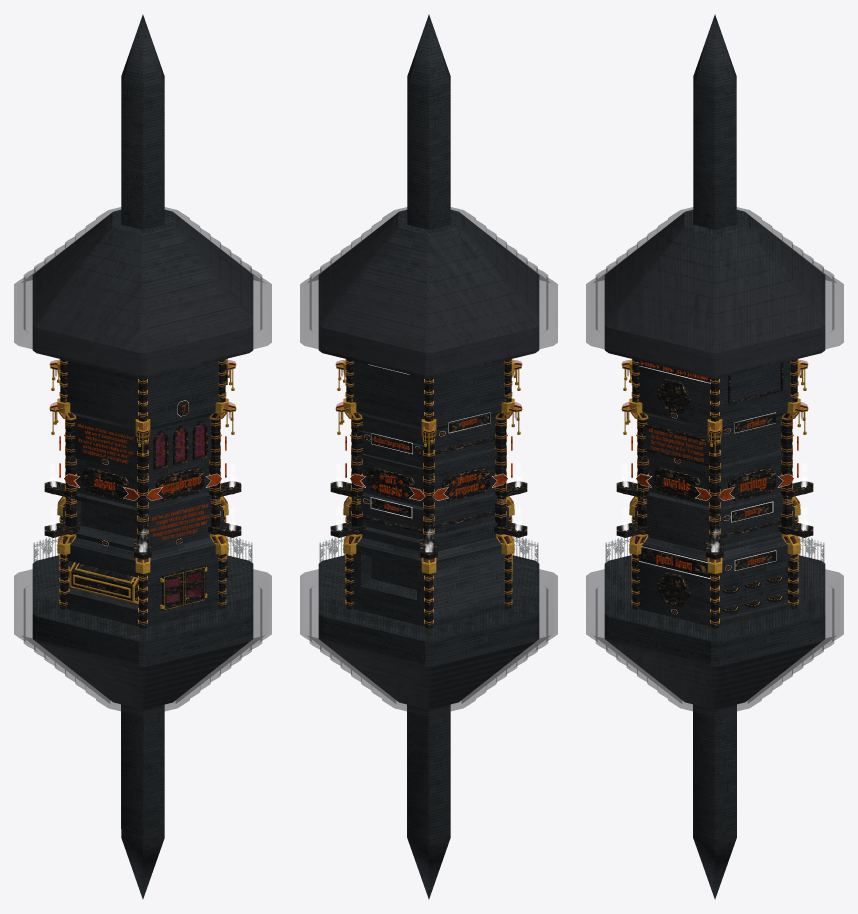
Rendered from HexCoreAtl-transformed.glb.
The picture shows the model from 3 angles, left to right: view 1: azimuth 30°, elevation 25°; view 2: azimuth 150°, elevation 25°; view 3: azimuth 270°, elevation 25°; orthographic projection.
Parts seen in each view (by area): view 1: HexCoreFusedAtlas, SpinnerF, CabinetDoor.002, CabinetDoor.003; view 2: HexCoreFusedAtlas; view 3: HexCoreFusedAtlas.
Boxes of the visible parts, <box> form: HexCoreFusedAtlas: <box>14,14,271,899</box>; SpinnerF: <box>69,562,138,603</box>; CabinetDoor.002: <box>160,570,184,610</box>; CabinetDoor.003: <box>183,565,207,605</box>; HexCoreFusedAtlas: <box>300,14,557,899</box>; HexCoreFusedAtlas: <box>586,14,843,899</box>.
Size of the model in its own units: 3.17 by 10.58 by 2.79.
5 materials, 4 textured.
